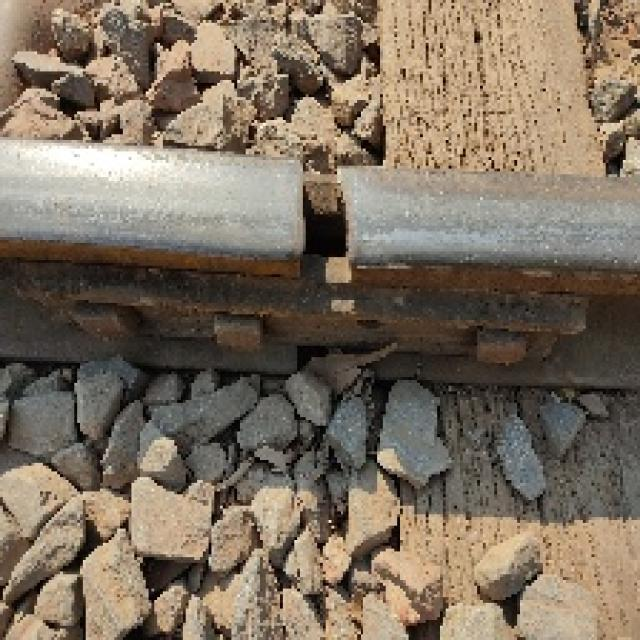Defective Joint: (0, 260, 583, 363)
